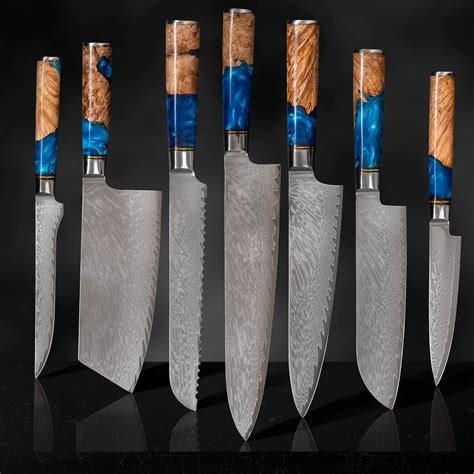knife: (80, 42, 162, 396), (219, 10, 282, 439), (289, 20, 347, 421), (159, 23, 212, 410), (353, 49, 409, 409), (29, 54, 65, 383), (428, 73, 464, 386)
